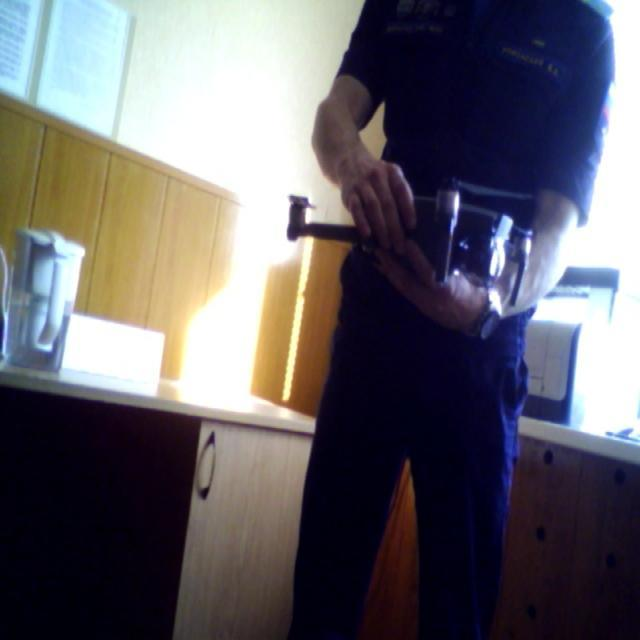drone: (274, 163, 640, 347)
